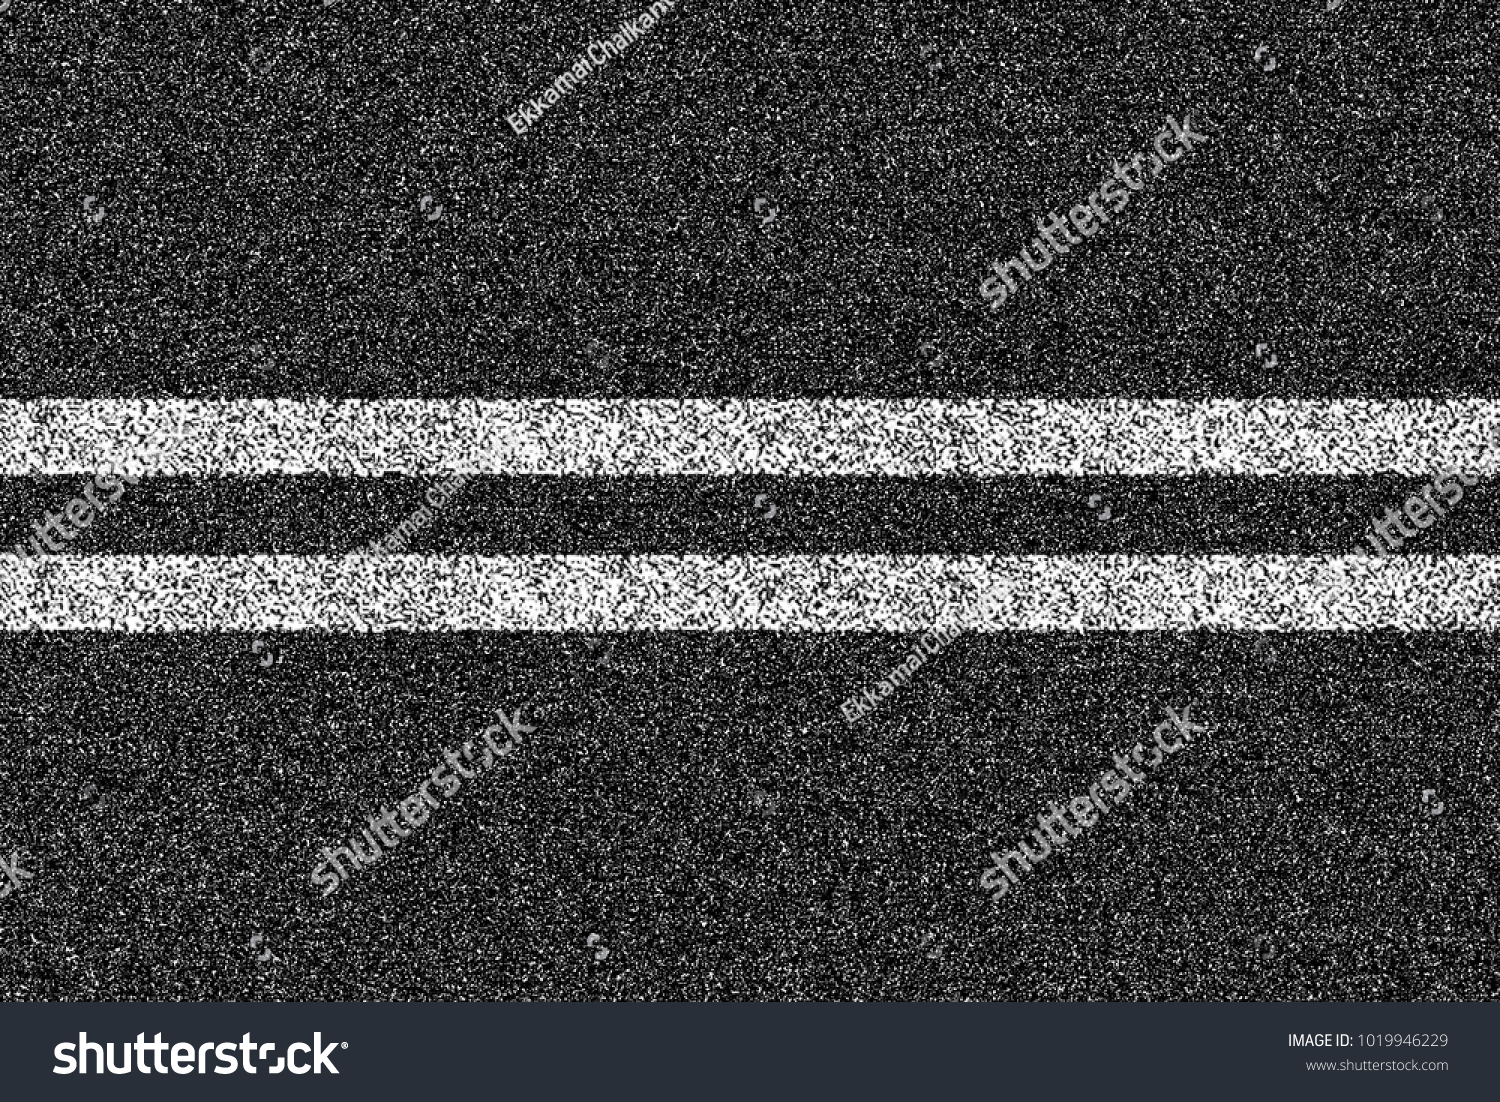LaneMark: (3, 551, 1500, 633), (5, 400, 1493, 479)
